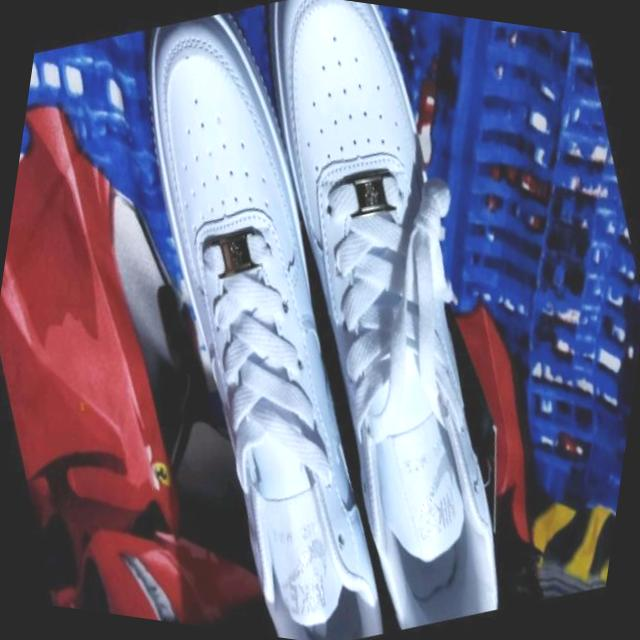nike_fake_airforce: (43, 0, 473, 640), (171, 0, 599, 640)
